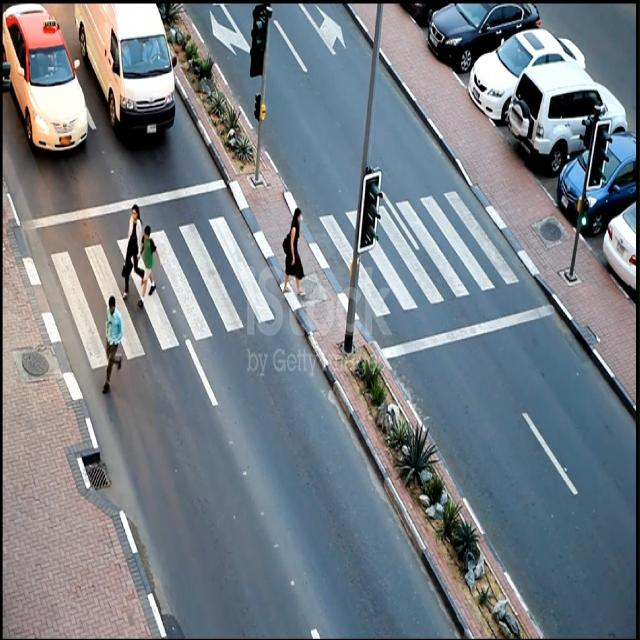pedestrian: (122, 204, 143, 298), (283, 209, 304, 294), (104, 295, 122, 389), (139, 226, 156, 305)
